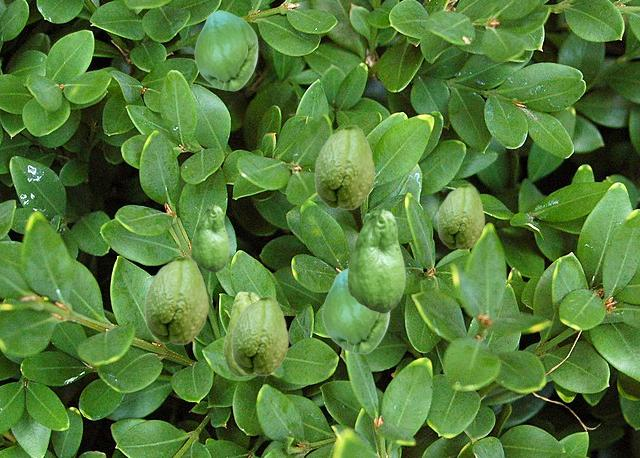sayote: (347, 209, 404, 312), (144, 255, 208, 344), (322, 268, 389, 353), (314, 124, 374, 209), (194, 10, 257, 90), (231, 295, 288, 375), (223, 291, 260, 376), (437, 183, 484, 249), (191, 205, 228, 271)
